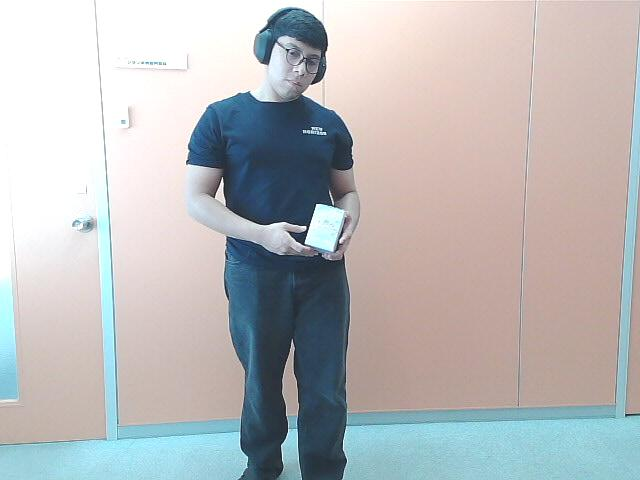Blind_box: (306, 199, 346, 263)
